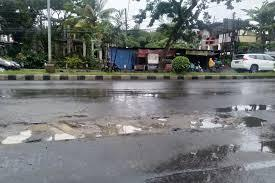Pothole: (0, 109, 275, 183), (4, 82, 275, 117), (194, 95, 264, 135)
